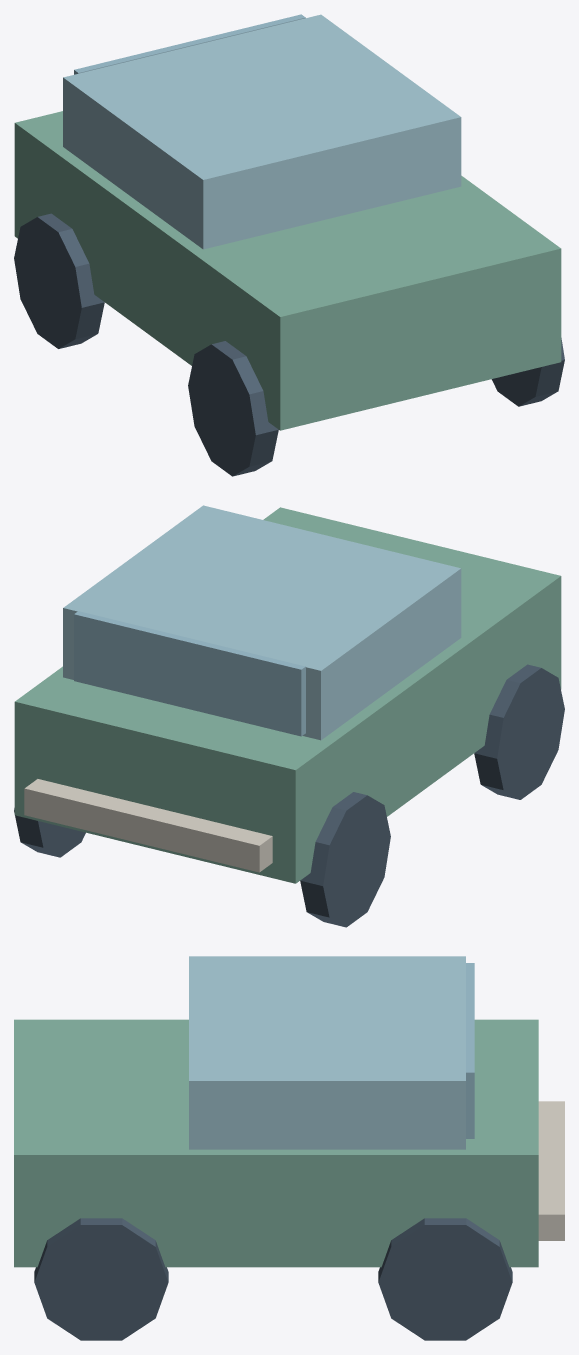
Rendered from TownCar_Green.glb.
3 renders of one model, top to bottom at view 1: azimuth 30°, elevation 25°; view 2: azimuth 150°, elevation 25°; view 3: azimuth 270°, elevation 25°, orthographic.
Parts seen in each view (by area): view 1: Part_00, Part_01, Part_05, Part_04, Part_07, Part_02; view 2: Part_00, Part_01, Part_02, Part_03, Part_04, Part_05, Part_06; view 3: Part_00, Part_01, Part_06, Part_07, Part_03, Part_02.
Boxes of the visible parts, x1,y1,x2,y2 form: Part_00: [14, 111, 561, 430]; Part_01: [63, 14, 461, 249]; Part_05: [188, 341, 278, 476]; Part_04: [14, 213, 104, 348]; Part_07: [491, 338, 564, 406]; Part_02: [74, 14, 305, 74]; Part_00: [14, 507, 561, 883]; Part_01: [63, 505, 461, 740]; Part_02: [74, 611, 305, 736]; Part_03: [24, 779, 272, 872]; Part_04: [300, 792, 390, 927]; Part_05: [474, 664, 564, 799]; Part_06: [14, 808, 85, 857]; Part_00: [14, 1019, 538, 1267]; Part_01: [189, 956, 465, 1149]; Part_06: [378, 1218, 512, 1340]; Part_07: [34, 1218, 168, 1340]; Part_03: [538, 1101, 564, 1240]; Part_02: [466, 963, 474, 1138].
Bounding box in the file's own units: 2.42 × 1.88 × 3.78.
